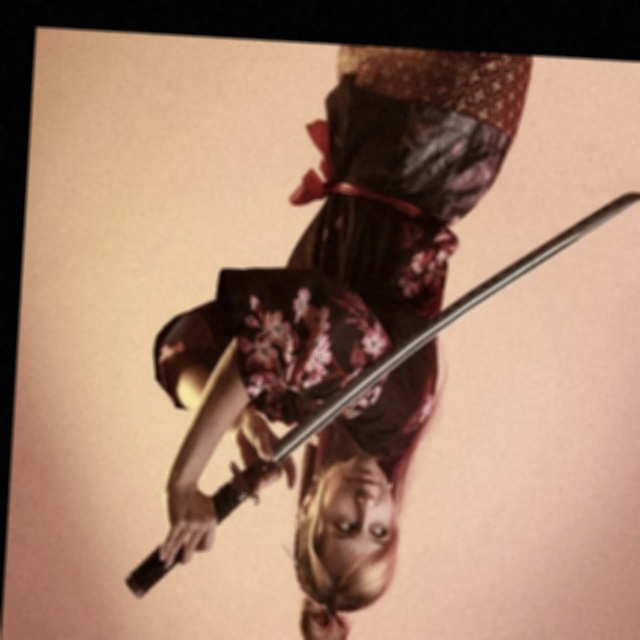Sharp-Object: (128, 165, 640, 627)
